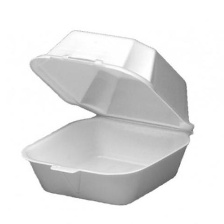foam_box: (17, 23, 200, 208)
